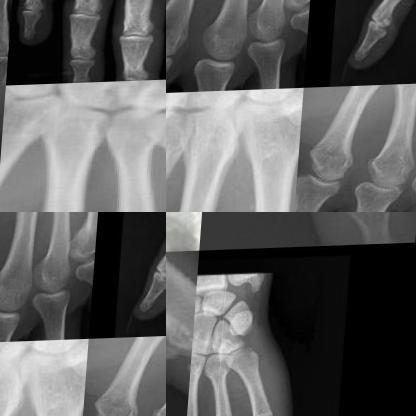fracture: (60, 216, 98, 275)
